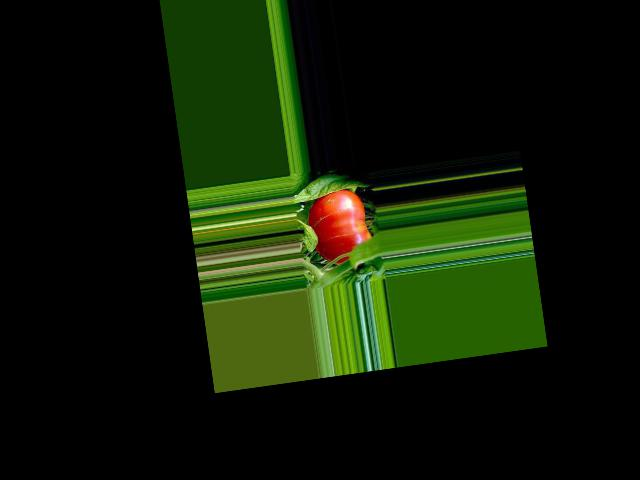tomato: (304, 185, 374, 268)
